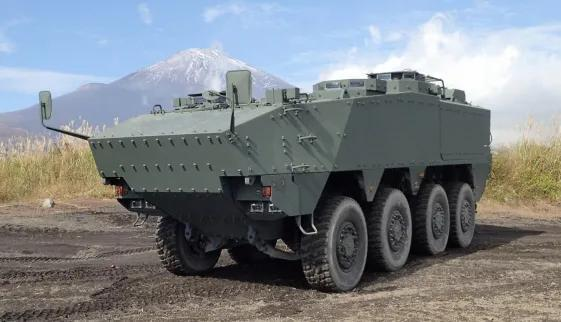MIL_IFV: (86, 67, 493, 293)
